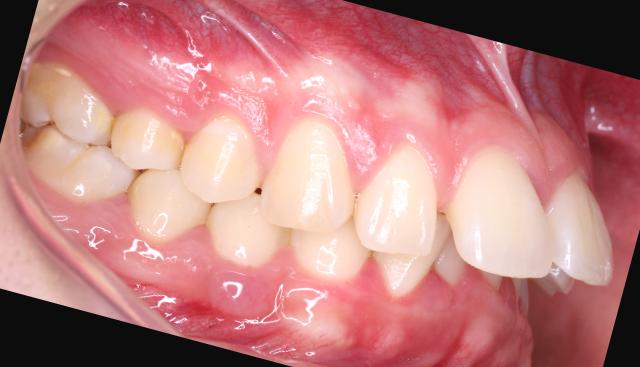canine class I: (193, 94, 403, 308)
molar class III 1/2: (0, 60, 154, 223)
